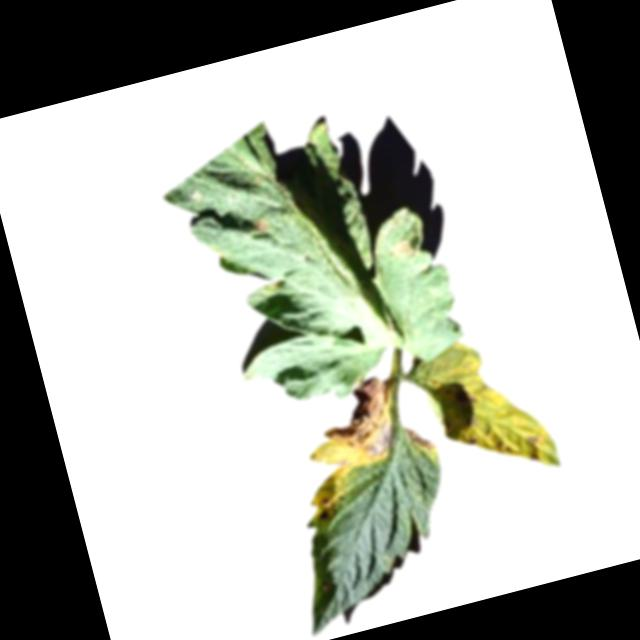Early_blight: (310, 370, 405, 472), (401, 422, 437, 458), (521, 429, 548, 467), (315, 500, 347, 528), (389, 239, 420, 263), (250, 215, 272, 238)
